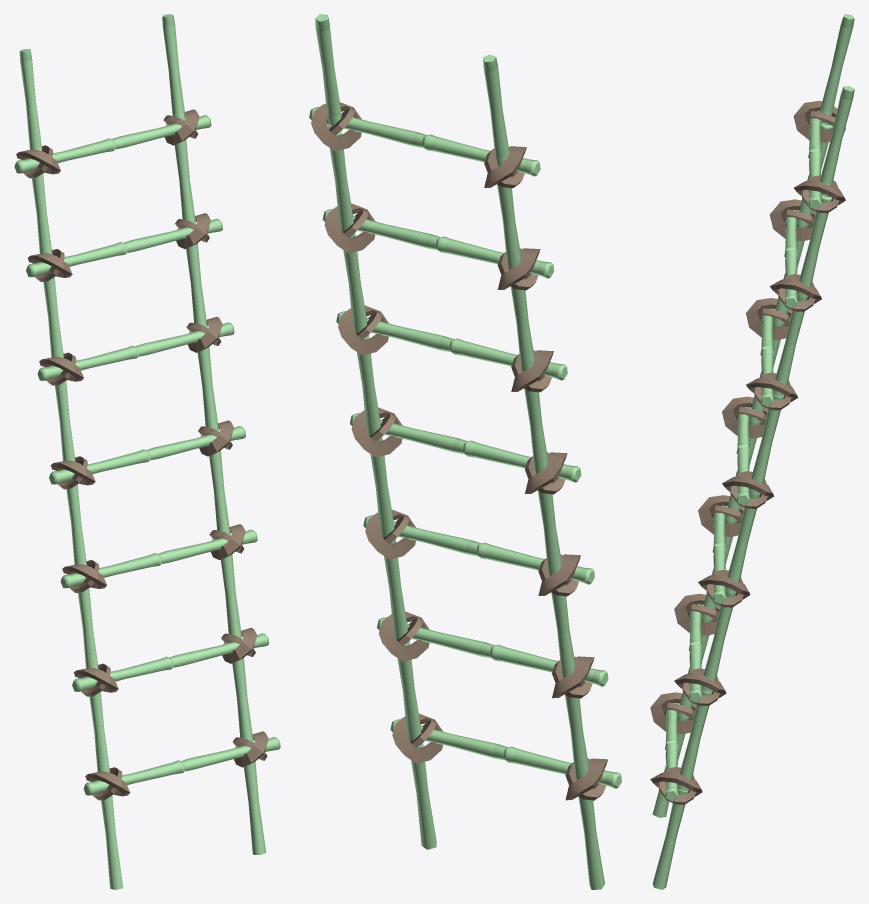
Rendered from bamboo_ladder_01.fbx.
3 views of the same model, side by side, from view 1: azimuth 30°, elevation 25°; view 2: azimuth 150°, elevation 25°; view 3: azimuth 270°, elevation 25° (orthographic). The views are drawn at different scales.
Parts seen in each view (by area): view 1: bamboo_ladder_03; view 2: bamboo_ladder_03; view 3: bamboo_ladder_03.
Boxes of the visible parts, x1,y1,x2,y2 form: bamboo_ladder_03: [14, 14, 280, 889]; bamboo_ladder_03: [309, 14, 621, 889]; bamboo_ladder_03: [650, 14, 854, 889].
Size of the model in its own units: 116 by 447 by 104.
